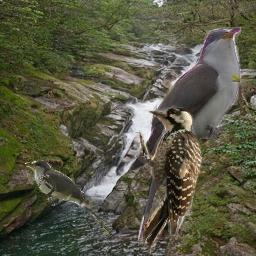Cuckoo: (128, 27, 242, 245), (24, 160, 112, 236)
Woodpecker: (134, 103, 203, 256)
